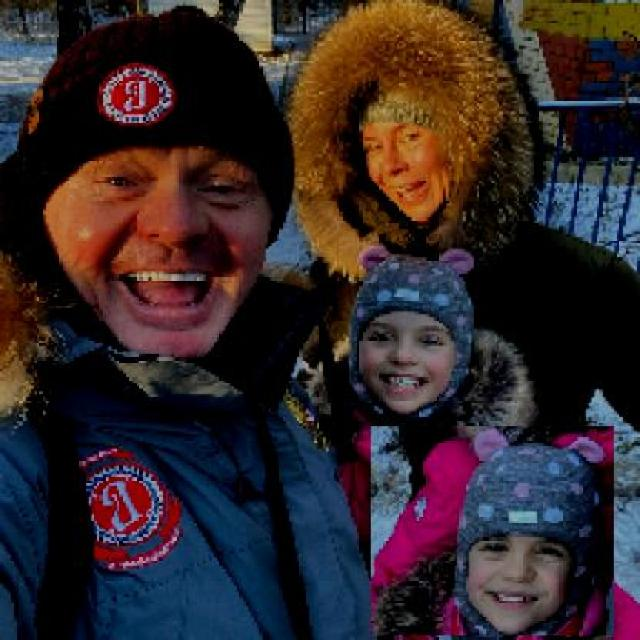child: (331, 245, 640, 638), (369, 426, 614, 637)
